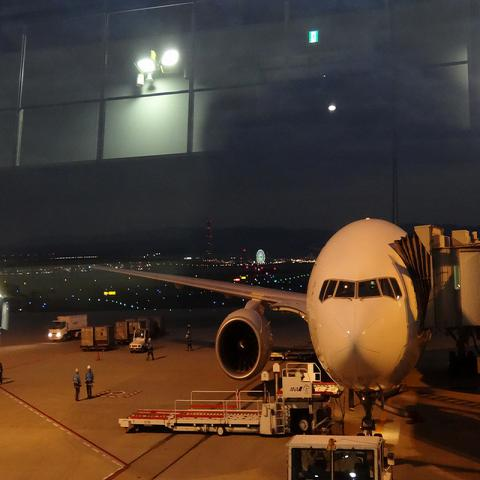truck: (121, 360, 325, 432), (48, 314, 87, 341), (94, 322, 116, 351), (129, 327, 151, 353), (80, 326, 96, 351), (126, 320, 143, 342), (114, 320, 129, 344), (148, 314, 165, 335)
